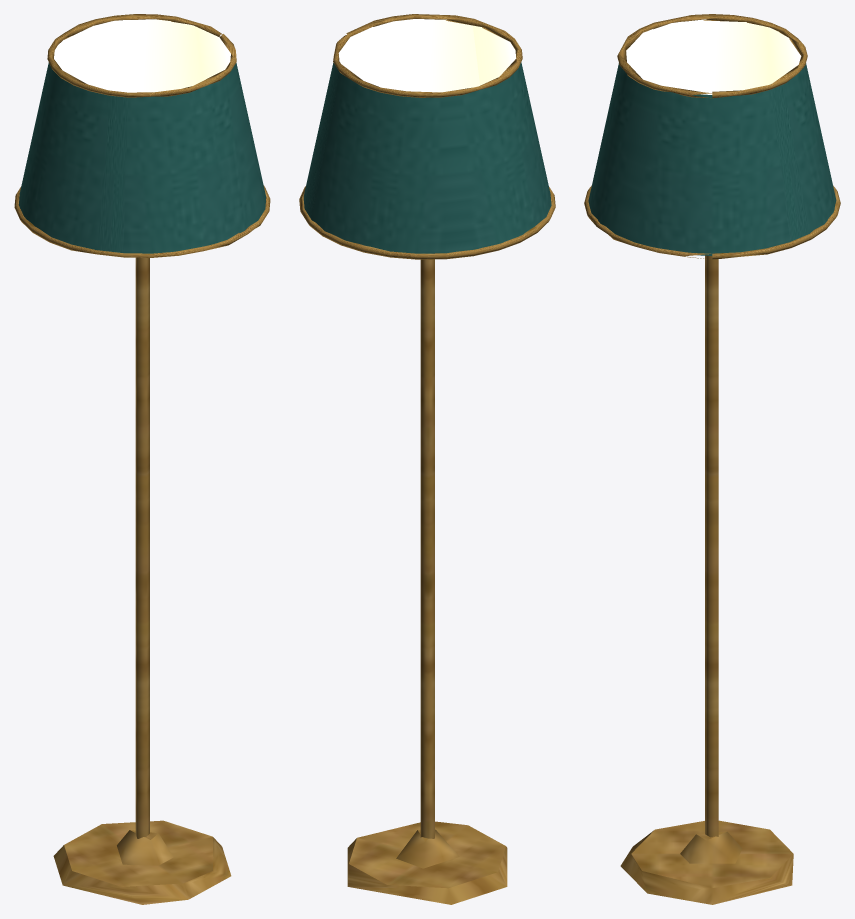
The model's file is floor-lamp.lod1.glb.
The picture shows the model from 3 angles, left to right: view 1: azimuth 30°, elevation 25°; view 2: azimuth 150°, elevation 25°; view 3: azimuth 270°, elevation 25°; orthographic projection.
Visible parts, largest first — view 1: FloorLamp_tealCloth, FloorLamp_brass, FloorLamp_glow; view 2: FloorLamp_tealCloth, FloorLamp_brass, FloorLamp_glow; view 3: FloorLamp_tealCloth, FloorLamp_brass, FloorLamp_glow.
Part boxes in pixels (box(x1,y1,x2,y2)): FloorLamp_tealCloth: box(18, 62, 266, 253); FloorLamp_brass: box(14, 14, 270, 904); FloorLamp_glow: box(54, 19, 230, 92); FloorLamp_tealCloth: box(303, 62, 551, 253); FloorLamp_brass: box(299, 14, 555, 904); FloorLamp_glow: box(338, 19, 516, 92); FloorLamp_tealCloth: box(588, 63, 836, 255); FloorLamp_brass: box(584, 14, 840, 904); FloorLamp_glow: box(626, 19, 801, 94).
Bounding box in the file's own units: 0.474 × 1.66 × 0.474.
Materials: 3 (2 with a texture image).
